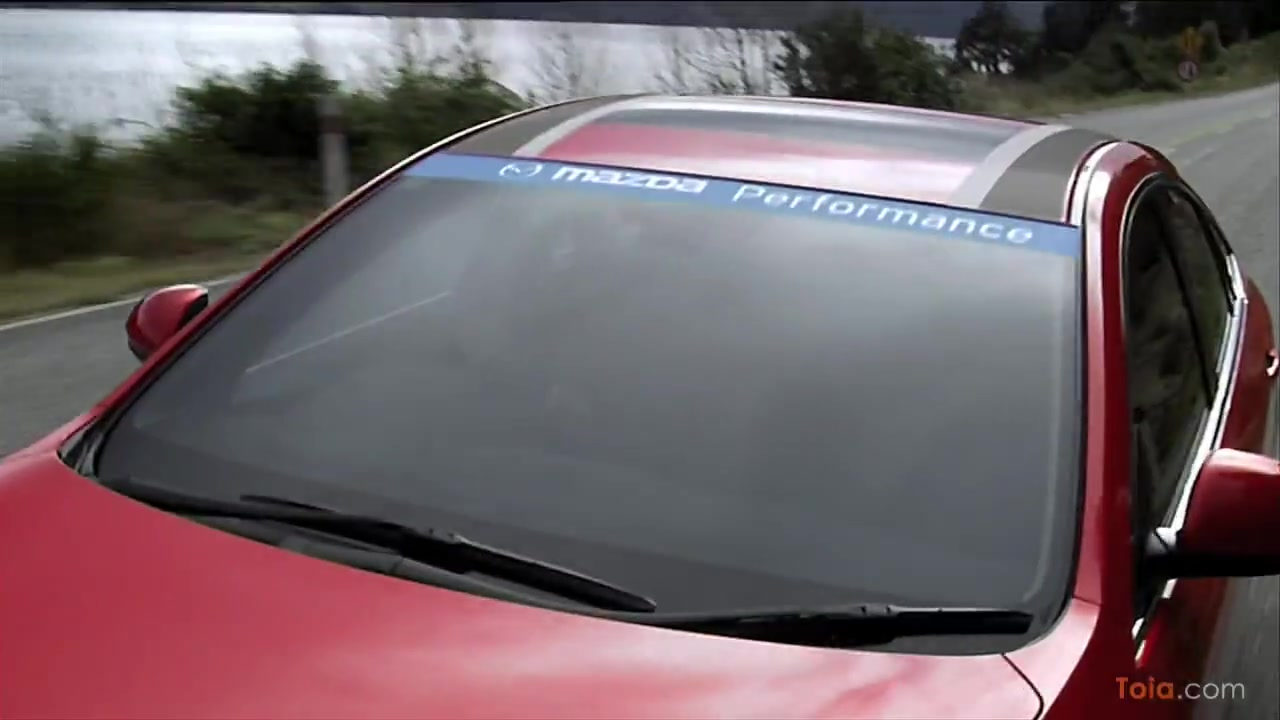car: (2, 89, 1280, 720)
